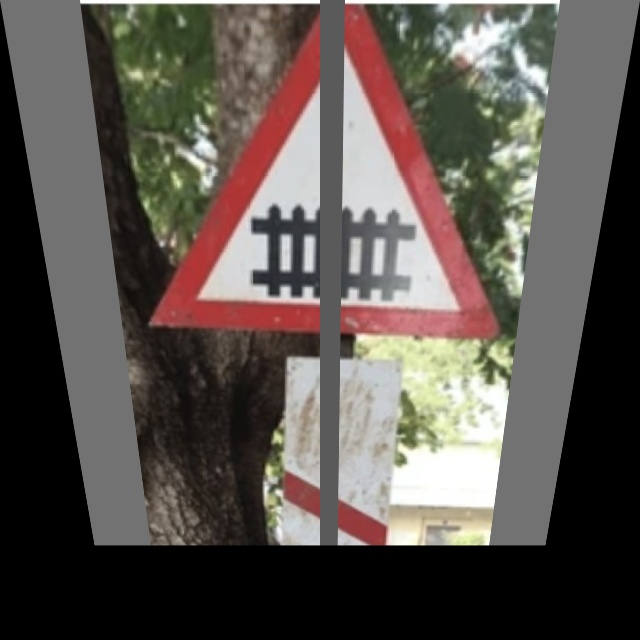Guarded_Level_Crossing: (136, 26, 517, 330)
